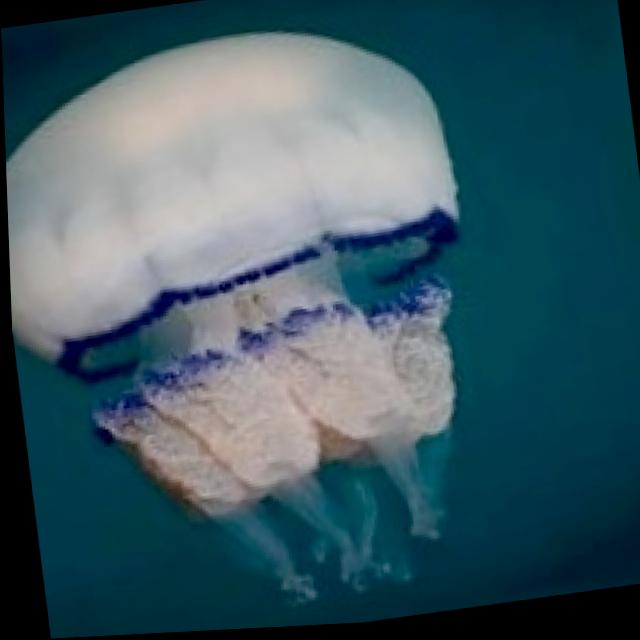Box-jellyfish: (1, 7, 506, 640)
